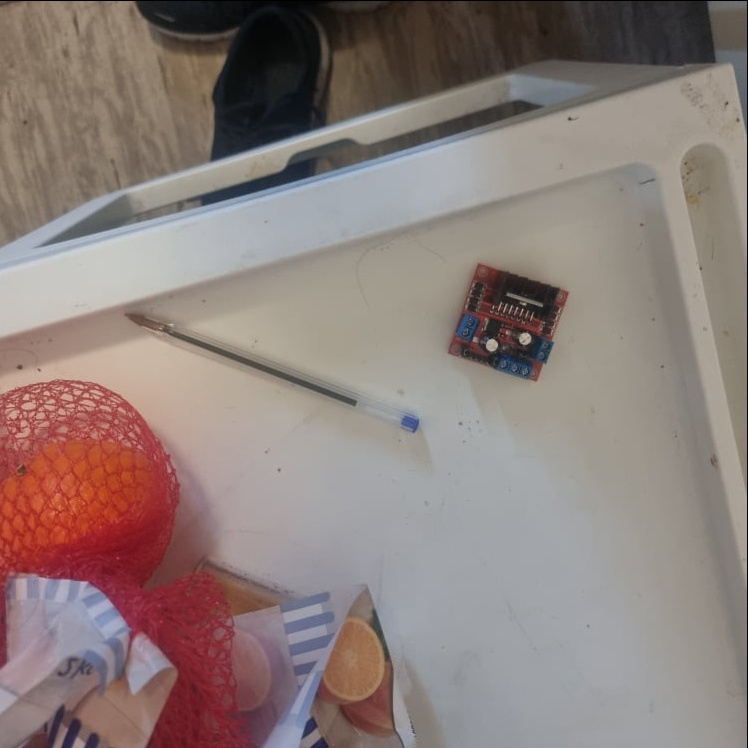MOTOR: (447, 260, 576, 383)
